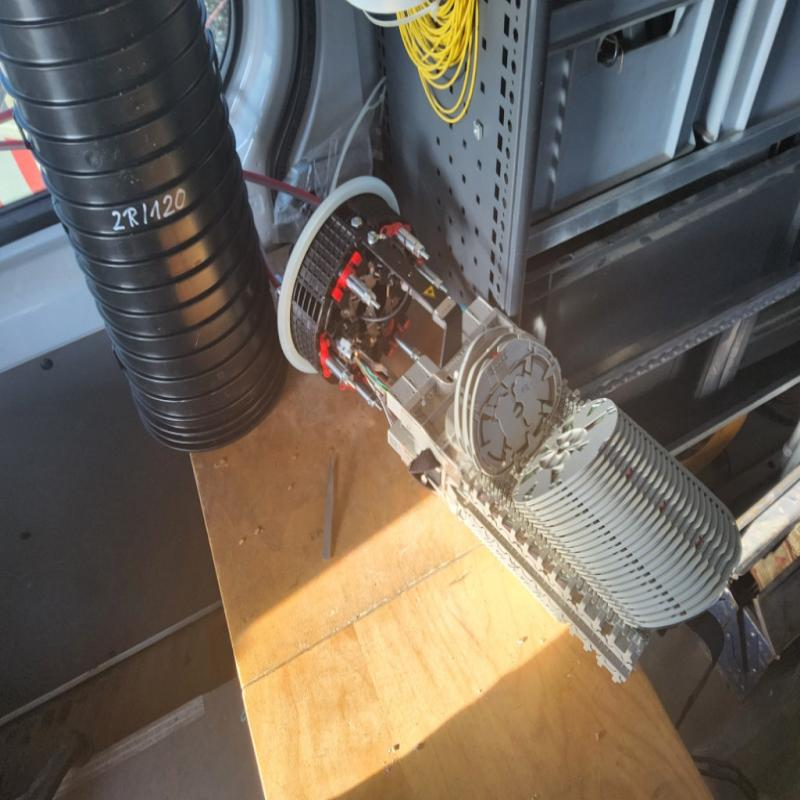NT-Muffen: (274, 174, 746, 687)
